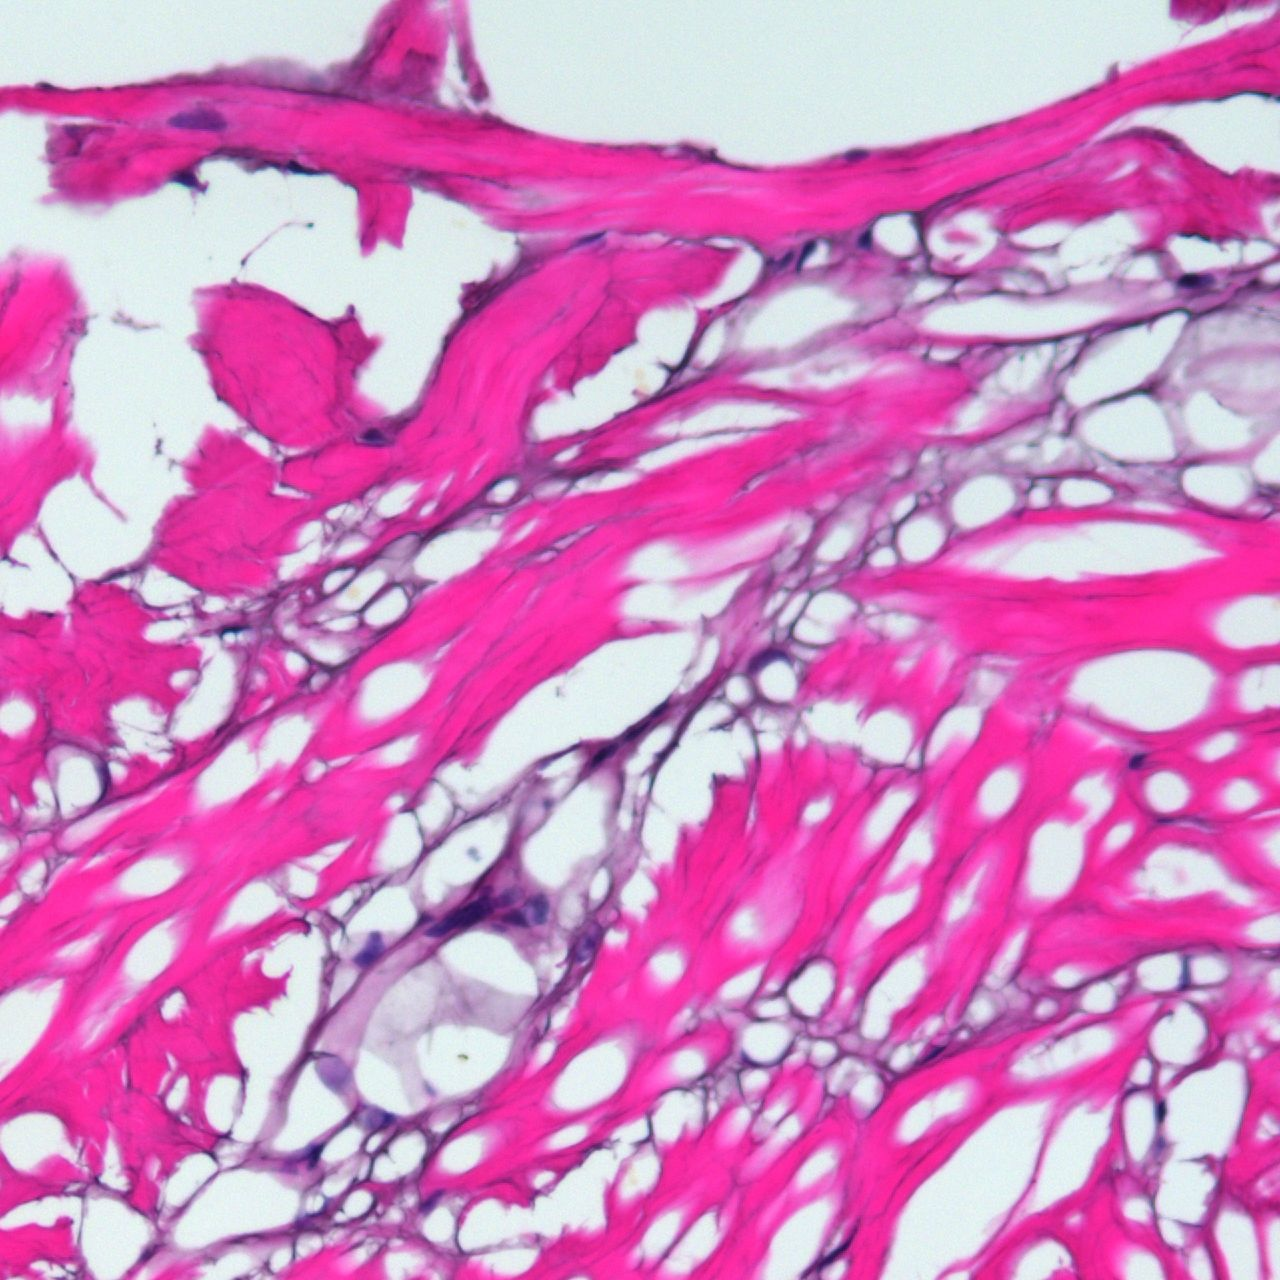nucleus-HE: (427, 891, 497, 946), (585, 741, 618, 770), (1126, 747, 1152, 769), (360, 425, 387, 442), (858, 231, 873, 248)
